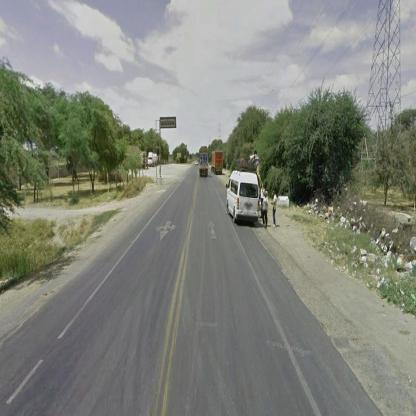Peaton: (262, 191, 270, 229), (272, 192, 278, 228)
Pista: (33, 166, 354, 372)
Vehiculo: (227, 170, 261, 227), (212, 153, 224, 175), (200, 153, 209, 178)
